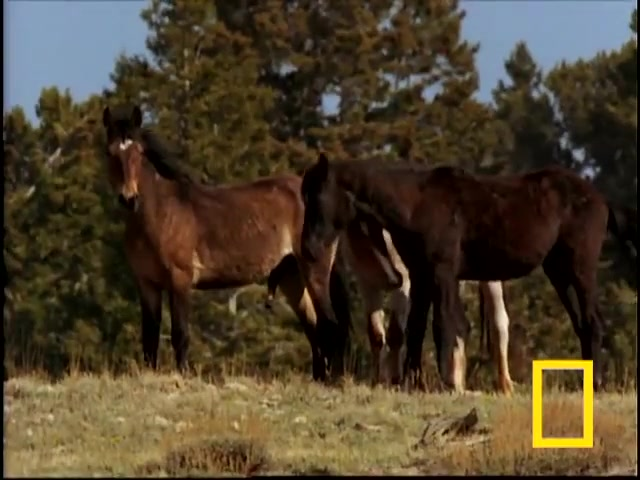horse: (300, 151, 613, 390)
